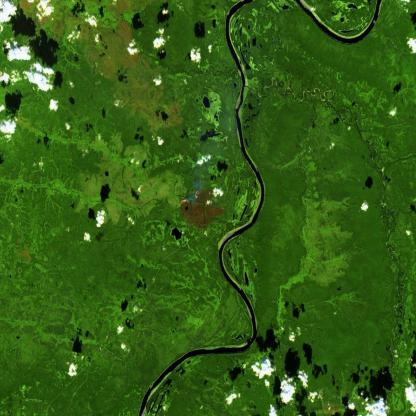fire: (179, 188, 202, 210)
